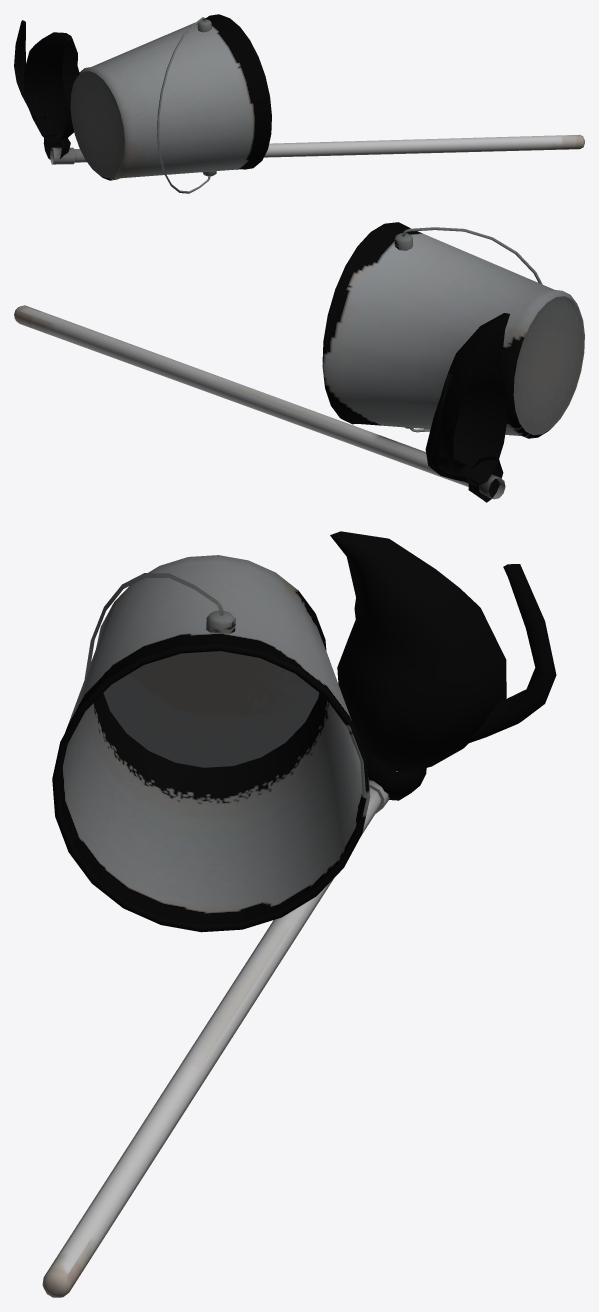
The model's file is props_2fort_mop_and_bucket.glb.
3 views of the same model, one above another, from view 1: azimuth 30°, elevation 25°; view 2: azimuth 150°, elevation 25°; view 3: azimuth 270°, elevation 25° (orthographic). The views are drawn at different scales.
Parts seen in each view (by area): view 1: models/props_2fort/mop_and_bucket; view 2: models/props_2fort/mop_and_bucket; view 3: models/props_2fort/mop_and_bucket.
Part boxes in pixels (box(x1,y1,x2,y2)): models/props_2fort/mop_and_bucket: box(14, 14, 584, 193); models/props_2fort/mop_and_bucket: box(14, 222, 584, 502); models/props_2fort/mop_and_bucket: box(42, 531, 556, 1297).
Bounding box in the file's own units: 80.78 × 31.5 × 39.68.
1 material, 1 textured.
